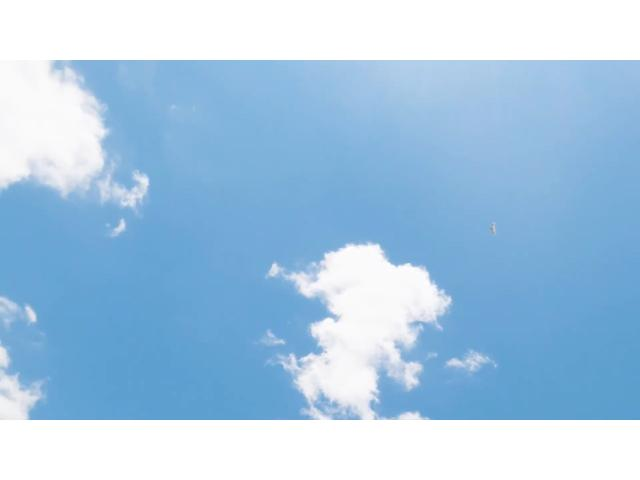Anti-Drone: (482, 214, 504, 242)
